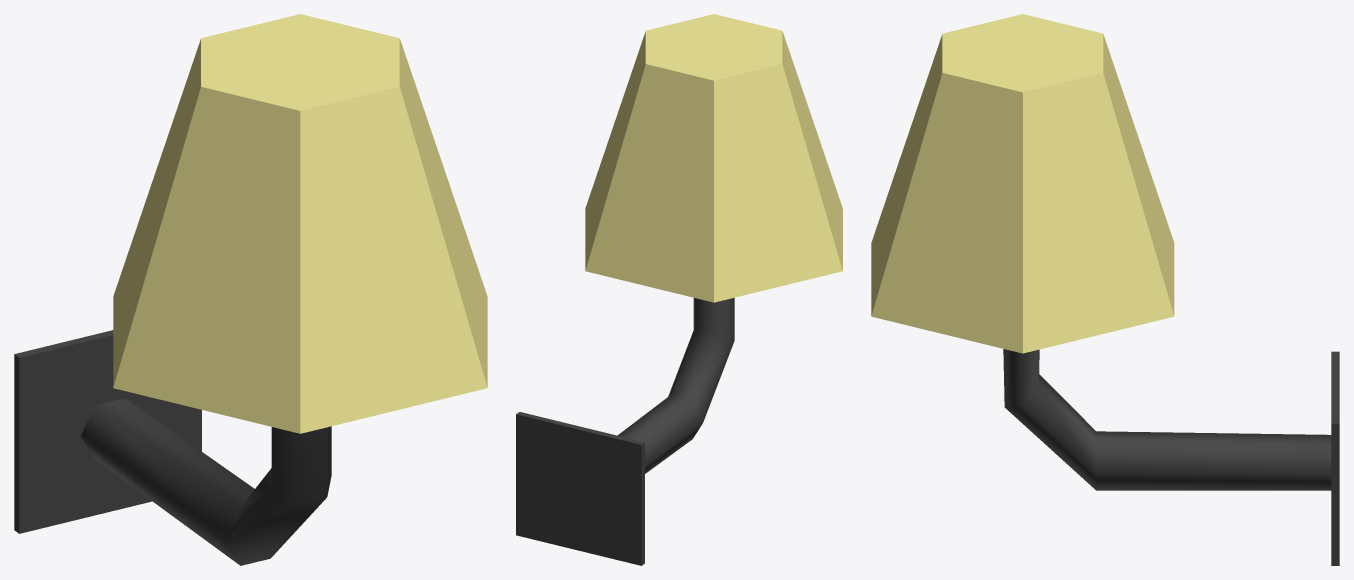
The model's file is lampara_pared.FBX.
3 renders of one model, left to right at view 1: azimuth 30°, elevation 25°; view 2: azimuth 150°, elevation 25°; view 3: azimuth 270°, elevation 25°, orthographic. The views are drawn at different scales.
Visible parts, largest first — view 1: Object001; view 2: Object001; view 3: Object001.
Boxes of the visible parts, x1,y1,x2,y2 form: Object001: (14, 14, 487, 565); Object001: (516, 14, 842, 565); Object001: (871, 14, 1339, 565).
Bounding box in the file's own units: 41.15 × 61.84 × 55.08.
